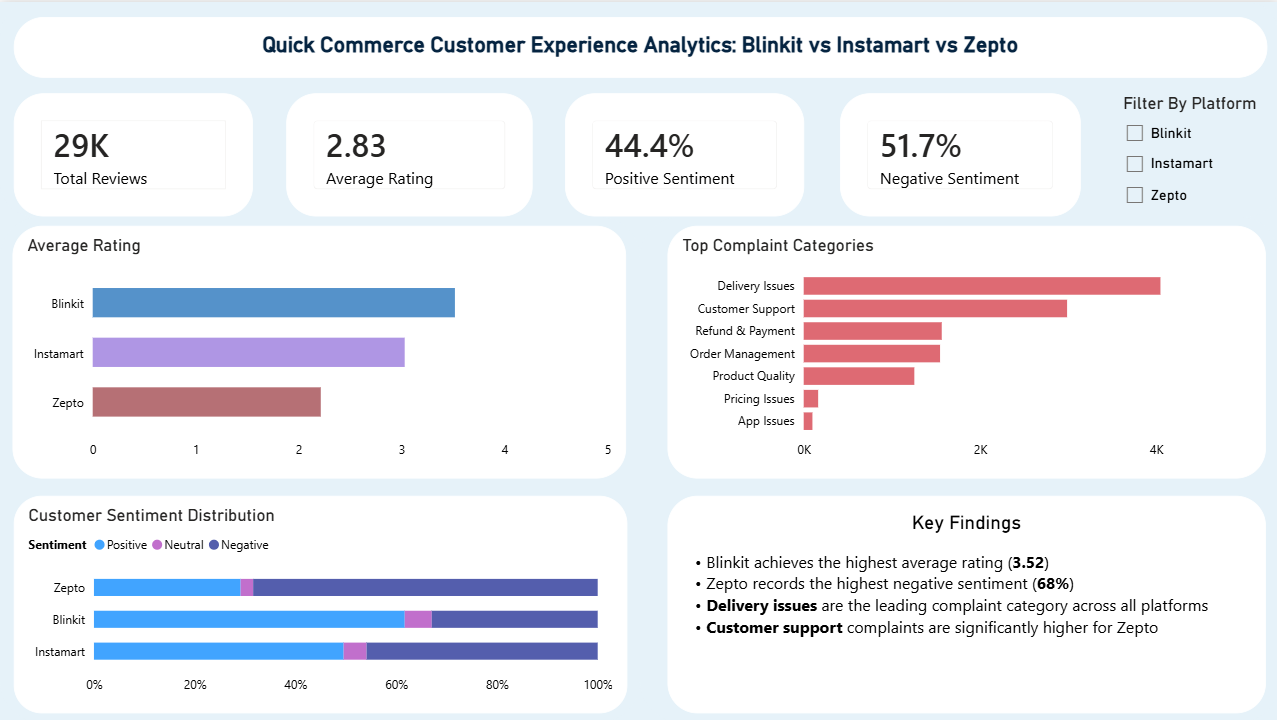

This screenshot's page, from the dashboard's own definition file:
{"tool":"powerbi","page":{"name":"Executive Overview","canvas":[1280,720],"ordinal":0},"visuals":[{"type":"shape","box":[640,215,640,505],"z":0},{"type":"shape","box":[0,215,640,505],"z":1000},{"type":"shape","box":[0,0,1280.2,215.1],"z":2000},{"type":"cardVisual","title":"Total Reviews","fields":{"Data":["QuickCommerce_Clean.Total Reviews"]},"box":[14,90.7,239.5,123.3],"z":3000},{"type":"cardVisual","title":"Average Customer Rating","fields":{"Data":["QuickCommerce_Clean.Average Rating"]},"box":[286,90.7,246.5,123.3],"z":4000},{"type":"cardVisual","title":"Positive Sentiment","fields":{"Data":["QuickCommerce_Clean.Positive %"]},"box":[565.1,90.7,239.5,123.3],"z":5000},{"type":"cardVisual","title":"Negative Sentiment","fields":{"Data":["QuickCommerce_Clean.Negative %"]},"box":[839.5,90.7,240.7,123.3],"z":6000},{"type":"clusteredBarChart","title":"Average Rating ","fields":{"Category":["Platform.platform"],"Y":["QuickCommerce_Clean.Average Rating"]},"box":[12.5,223.8,613.8,252.5],"z":7000},{"type":"hundredPercentStackedBarChart","title":"Customer Sentiment Distribution","fields":{"Category":["Platform.platform"],"Series":["QuickCommerce_Clean.Sentiment"],"Y":["QuickCommerce_Clean.Total Reviews"]},"box":[13.8,493.8,613.8,217.5],"z":8000},{"type":"textbox","box":[667.5,493.8,598.8,217.5],"z":9000},{"type":"barChart","title":"Top Complaint Categories","fields":{"Y":["QuickCommerce_Complaints.Complaint Count"],"Category":["QuickCommerce_Complaints.Complaint Category"]},"box":[667.5,223.8,598.8,252.5],"z":10000},{"type":"textbox","title":"Quick Commerce Customer Experience Analytics: Blinkit vs Instamart vs Zepto","box":[14,15.1,1253.5,60.5],"z":11000},{"type":"slicer","title":"Filter By Platform","fields":{"Values":["Platform.platform"]},"box":[1114,90.7,152.3,123.3],"z":12000}]}

Visuals, with their boxes in screenshot pixels (x1, y1, x2, y2), scaled from the page's 1280x720 canvas onto the 1277x720 screenshot:
shape: bbox=(638, 215, 1276, 719)
shape: bbox=(0, 215, 638, 719)
shape: bbox=(0, 0, 1276, 215)
"Total Reviews" cardVisual: bbox=(14, 91, 253, 214)
"Average Customer Rating" cardVisual: bbox=(285, 91, 531, 214)
"Positive Sentiment" cardVisual: bbox=(564, 91, 803, 214)
"Negative Sentiment" cardVisual: bbox=(838, 91, 1078, 214)
"Average Rating " clusteredBarChart: bbox=(12, 224, 625, 476)
"Customer Sentiment Distribution" hundredPercentStackedBarChart: bbox=(14, 494, 626, 711)
textbox: bbox=(666, 494, 1263, 711)
"Top Complaint Categories" barChart: bbox=(666, 224, 1263, 476)
"Quick Commerce Customer Experience Analytics: Blinkit vs Instamart vs Zepto" textbox: bbox=(14, 15, 1265, 76)
"Filter By Platform" slicer: bbox=(1111, 91, 1263, 214)
